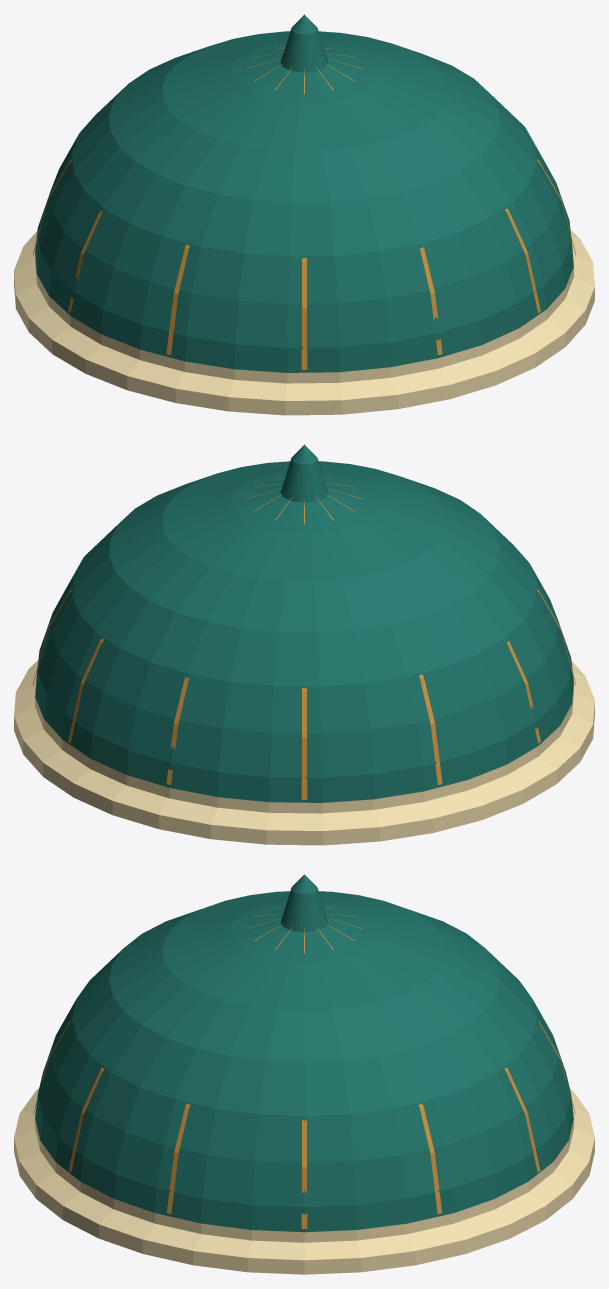
File: dome.obj
The picture shows the model from 3 angles, top to bottom: view 1: azimuth 30°, elevation 25°; view 2: azimuth 150°, elevation 25°; view 3: azimuth 270°, elevation 25°; orthographic projection.
Bounding box in the file's own units: 11 × 5.8 × 11.
